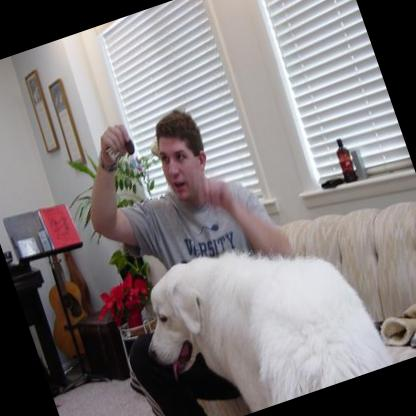Great_Pyrenees: (121, 205, 394, 416)
